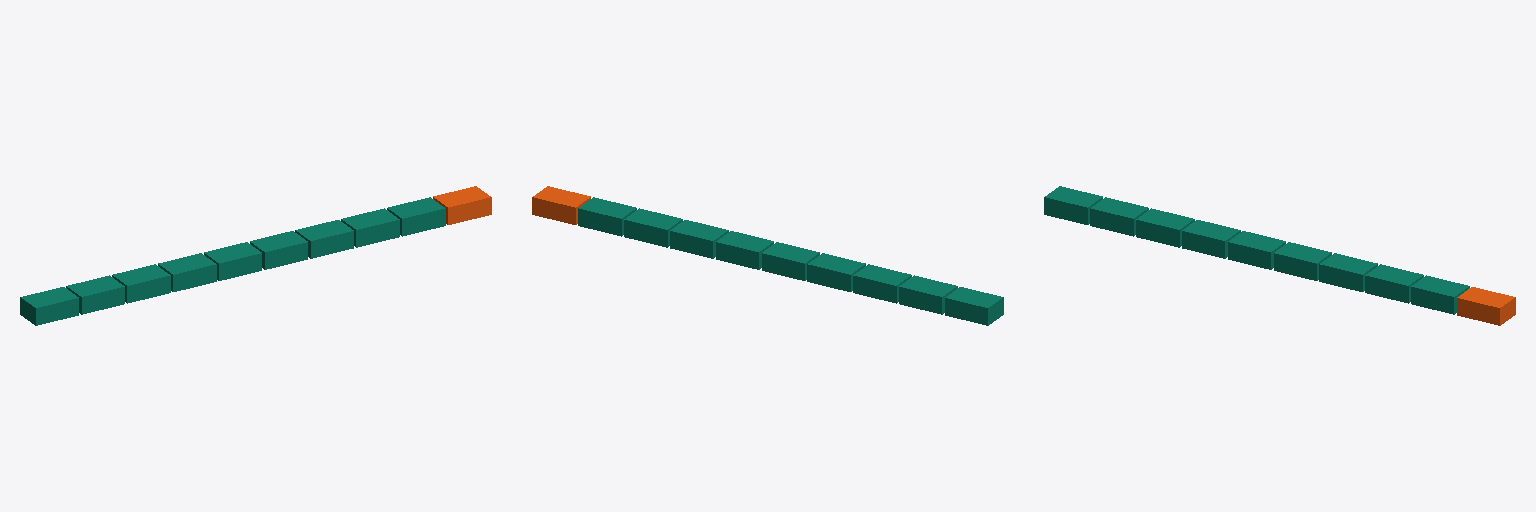
URDF robot description (robot_snake):
<?xml version="1.0"?>
<!-- cadpy:sourcePath=gen_robot_snake.py -->
<!-- cadpy:sourceHash=584fdf737cb0b60bbcebf51f11b106b61b826871e1d13dc4975272cc5c9327d5 -->
<robot name="robot_snake">
  <link name="link_00">
    <inertial>
      <origin xyz="-0.045 0 0" rpy="0 0 0" />
      <mass value="0.16" />
      <inertia ixx="5.66666666667e-05" ixy="0" ixz="0" iyy="0.000124333333333" iyz="0" izz="0.000148333333333" />
    </inertial>
    <visual name="link_00_visual">
      <origin xyz="-0.045 0 0" rpy="0 0 0" />
      <geometry>
        <box size="0.09 0.055 0.035" />
      </geometry>
      <material name="link_00_material">
        <color rgba="0.95 0.42 0.12 1" />
      </material>
    </visual>
    <collision name="link_00_collision">
      <origin xyz="-0.045 0 0" rpy="0 0 0" />
      <geometry>
        <box size="0.09 0.055 0.035" />
      </geometry>
    </collision>
  </link>
  <link name="link_01">
    <inertial>
      <origin xyz="-0.045 0 0" rpy="0 0 0" />
      <mass value="0.16" />
      <inertia ixx="5.66666666667e-05" ixy="0" ixz="0" iyy="0.000124333333333" iyz="0" izz="0.000148333333333" />
    </inertial>
    <visual name="link_01_visual">
      <origin xyz="-0.045 0 0" rpy="0 0 0" />
      <geometry>
        <box size="0.09 0.055 0.035" />
      </geometry>
      <material name="link_01_material">
        <color rgba="0.10 0.55 0.46 1" />
      </material>
    </visual>
    <collision name="link_01_collision">
      <origin xyz="-0.045 0 0" rpy="0 0 0" />
      <geometry>
        <box size="0.09 0.055 0.035" />
      </geometry>
    </collision>
  </link>
  <link name="link_02">
    <inertial>
      <origin xyz="-0.045 0 0" rpy="0 0 0" />
      <mass value="0.16" />
      <inertia ixx="5.66666666667e-05" ixy="0" ixz="0" iyy="0.000124333333333" iyz="0" izz="0.000148333333333" />
    </inertial>
    <visual name="link_02_visual">
      <origin xyz="-0.045 0 0" rpy="0 0 0" />
      <geometry>
        <box size="0.09 0.055 0.035" />
      </geometry>
      <material name="link_02_material">
        <color rgba="0.10 0.55 0.46 1" />
      </material>
    </visual>
    <collision name="link_02_collision">
      <origin xyz="-0.045 0 0" rpy="0 0 0" />
      <geometry>
        <box size="0.09 0.055 0.035" />
      </geometry>
    </collision>
  </link>
  <link name="link_03">
    <inertial>
      <origin xyz="-0.045 0 0" rpy="0 0 0" />
      <mass value="0.16" />
      <inertia ixx="5.66666666667e-05" ixy="0" ixz="0" iyy="0.000124333333333" iyz="0" izz="0.000148333333333" />
    </inertial>
    <visual name="link_03_visual">
      <origin xyz="-0.045 0 0" rpy="0 0 0" />
      <geometry>
        <box size="0.09 0.055 0.035" />
      </geometry>
      <material name="link_03_material">
        <color rgba="0.10 0.55 0.46 1" />
      </material>
    </visual>
    <collision name="link_03_collision">
      <origin xyz="-0.045 0 0" rpy="0 0 0" />
      <geometry>
        <box size="0.09 0.055 0.035" />
      </geometry>
    </collision>
  </link>
  <link name="link_04">
    <inertial>
      <origin xyz="-0.045 0 0" rpy="0 0 0" />
      <mass value="0.16" />
      <inertia ixx="5.66666666667e-05" ixy="0" ixz="0" iyy="0.000124333333333" iyz="0" izz="0.000148333333333" />
    </inertial>
    <visual name="link_04_visual">
      <origin xyz="-0.045 0 0" rpy="0 0 0" />
      <geometry>
        <box size="0.09 0.055 0.035" />
      </geometry>
      <material name="link_04_material">
        <color rgba="0.10 0.55 0.46 1" />
      </material>
    </visual>
    <collision name="link_04_collision">
      <origin xyz="-0.045 0 0" rpy="0 0 0" />
      <geometry>
        <box size="0.09 0.055 0.035" />
      </geometry>
    </collision>
  </link>
  <link name="link_05">
    <inertial>
      <origin xyz="-0.045 0 0" rpy="0 0 0" />
      <mass value="0.16" />
      <inertia ixx="5.66666666667e-05" ixy="0" ixz="0" iyy="0.000124333333333" iyz="0" izz="0.000148333333333" />
    </inertial>
    <visual name="link_05_visual">
      <origin xyz="-0.045 0 0" rpy="0 0 0" />
      <geometry>
        <box size="0.09 0.055 0.035" />
      </geometry>
      <material name="link_05_material">
        <color rgba="0.10 0.55 0.46 1" />
      </material>
    </visual>
    <collision name="link_05_collision">
      <origin xyz="-0.045 0 0" rpy="0 0 0" />
      <geometry>
        <box size="0.09 0.055 0.035" />
      </geometry>
    </collision>
  </link>
  <link name="link_06">
    <inertial>
      <origin xyz="-0.045 0 0" rpy="0 0 0" />
      <mass value="0.16" />
      <inertia ixx="5.66666666667e-05" ixy="0" ixz="0" iyy="0.000124333333333" iyz="0" izz="0.000148333333333" />
    </inertial>
    <visual name="link_06_visual">
      <origin xyz="-0.045 0 0" rpy="0 0 0" />
      <geometry>
        <box size="0.09 0.055 0.035" />
      </geometry>
      <material name="link_06_material">
        <color rgba="0.10 0.55 0.46 1" />
      </material>
    </visual>
    <collision name="link_06_collision">
      <origin xyz="-0.045 0 0" rpy="0 0 0" />
      <geometry>
        <box size="0.09 0.055 0.035" />
      </geometry>
    </collision>
  </link>
  <link name="link_07">
    <inertial>
      <origin xyz="-0.045 0 0" rpy="0 0 0" />
      <mass value="0.16" />
      <inertia ixx="5.66666666667e-05" ixy="0" ixz="0" iyy="0.000124333333333" iyz="0" izz="0.000148333333333" />
    </inertial>
    <visual name="link_07_visual">
      <origin xyz="-0.045 0 0" rpy="0 0 0" />
      <geometry>
        <box size="0.09 0.055 0.035" />
      </geometry>
      <material name="link_07_material">
        <color rgba="0.10 0.55 0.46 1" />
      </material>
    </visual>
    <collision name="link_07_collision">
      <origin xyz="-0.045 0 0" rpy="0 0 0" />
      <geometry>
        <box size="0.09 0.055 0.035" />
      </geometry>
    </collision>
  </link>
  <link name="link_08">
    <inertial>
      <origin xyz="-0.045 0 0" rpy="0 0 0" />
      <mass value="0.16" />
      <inertia ixx="5.66666666667e-05" ixy="0" ixz="0" iyy="0.000124333333333" iyz="0" izz="0.000148333333333" />
    </inertial>
    <visual name="link_08_visual">
      <origin xyz="-0.045 0 0" rpy="0 0 0" />
      <geometry>
        <box size="0.09 0.055 0.035" />
      </geometry>
      <material name="link_08_material">
        <color rgba="0.10 0.55 0.46 1" />
      </material>
    </visual>
    <collision name="link_08_collision">
      <origin xyz="-0.045 0 0" rpy="0 0 0" />
      <geometry>
        <box size="0.09 0.055 0.035" />
      </geometry>
    </collision>
  </link>
  <link name="link_09">
    <inertial>
      <origin xyz="-0.045 0 0" rpy="0 0 0" />
      <mass value="0.16" />
      <inertia ixx="5.66666666667e-05" ixy="0" ixz="0" iyy="0.000124333333333" iyz="0" izz="0.000148333333333" />
    </inertial>
    <visual name="link_09_visual">
      <origin xyz="-0.045 0 0" rpy="0 0 0" />
      <geometry>
        <box size="0.09 0.055 0.035" />
      </geometry>
      <material name="link_09_material">
        <color rgba="0.10 0.55 0.46 1" />
      </material>
    </visual>
    <collision name="link_09_collision">
      <origin xyz="-0.045 0 0" rpy="0 0 0" />
      <geometry>
        <box size="0.09 0.055 0.035" />
      </geometry>
    </collision>
  </link>
  <joint name="joint_01" type="revolute">
    <parent link="link_00" />
    <child link="link_01" />
    <origin xyz="-0.095 0 0" rpy="0 0 0" />
    <axis xyz="0 0 1" />
    <limit lower="-0.95" upper="0.95" effort="3" velocity="4" />
  </joint>
  <joint name="joint_02" type="revolute">
    <parent link="link_01" />
    <child link="link_02" />
    <origin xyz="-0.095 0 0" rpy="0 0 0" />
    <axis xyz="0 0 1" />
    <limit lower="-0.95" upper="0.95" effort="3" velocity="4" />
  </joint>
  <joint name="joint_03" type="revolute">
    <parent link="link_02" />
    <child link="link_03" />
    <origin xyz="-0.095 0 0" rpy="0 0 0" />
    <axis xyz="0 0 1" />
    <limit lower="-0.95" upper="0.95" effort="3" velocity="4" />
  </joint>
  <joint name="joint_04" type="revolute">
    <parent link="link_03" />
    <child link="link_04" />
    <origin xyz="-0.095 0 0" rpy="0 0 0" />
    <axis xyz="0 0 1" />
    <limit lower="-0.95" upper="0.95" effort="3" velocity="4" />
  </joint>
  <joint name="joint_05" type="revolute">
    <parent link="link_04" />
    <child link="link_05" />
    <origin xyz="-0.095 0 0" rpy="0 0 0" />
    <axis xyz="0 0 1" />
    <limit lower="-0.95" upper="0.95" effort="3" velocity="4" />
  </joint>
  <joint name="joint_06" type="revolute">
    <parent link="link_05" />
    <child link="link_06" />
    <origin xyz="-0.095 0 0" rpy="0 0 0" />
    <axis xyz="0 0 1" />
    <limit lower="-0.95" upper="0.95" effort="3" velocity="4" />
  </joint>
  <joint name="joint_07" type="revolute">
    <parent link="link_06" />
    <child link="link_07" />
    <origin xyz="-0.095 0 0" rpy="0 0 0" />
    <axis xyz="0 0 1" />
    <limit lower="-0.95" upper="0.95" effort="3" velocity="4" />
  </joint>
  <joint name="joint_08" type="revolute">
    <parent link="link_07" />
    <child link="link_08" />
    <origin xyz="-0.095 0 0" rpy="0 0 0" />
    <axis xyz="0 0 1" />
    <limit lower="-0.95" upper="0.95" effort="3" velocity="4" />
  </joint>
  <joint name="joint_09" type="revolute">
    <parent link="link_08" />
    <child link="link_09" />
    <origin xyz="-0.095 0 0" rpy="0 0 0" />
    <axis xyz="0 0 1" />
    <limit lower="-0.95" upper="0.95" effort="3" velocity="4" />
  </joint>
</robot>

--- Facts derived from the render (not from the file) ---
3 views of the same robot in one strip: view 1: azimuth 30°, elevation 25°; view 2: azimuth 150°, elevation 25°; view 3: azimuth 330°, elevation 25° (orthographic).
Model robot_snake with 10 links and 9 joints (9 revolute), rooted at link_00, posed all joints at 0.
Links seen in each view (by area): view 1: link_09, link_00, link_01, link_02, link_06, link_08, link_03, link_07, link_04, link_05; view 2: link_09, link_00, link_01, link_02, link_06, link_08, link_03, link_07, link_04, link_05; view 3: link_00, link_01, link_03, link_07, link_08, link_09, link_02, link_06, link_05, link_04.
Boxes of the visible links, x1=… form: link_09: x1=20, y1=287, x2=78, y2=325; link_00: x1=433, y1=186, x2=491, y2=224; link_01: x1=387, y1=197, x2=445, y2=236; link_02: x1=341, y1=208, x2=399, y2=247; link_06: x1=158, y1=253, x2=216, y2=291; link_08: x1=66, y1=275, x2=124, y2=314; link_03: x1=295, y1=220, x2=353, y2=258; link_07: x1=112, y1=264, x2=170, y2=303; link_04: x1=250, y1=231, x2=307, y2=269; link_05: x1=204, y1=242, x2=261, y2=280; link_09: x1=945, y1=287, x2=1003, y2=325; link_00: x1=532, y1=186, x2=590, y2=224; link_01: x1=578, y1=197, x2=636, y2=236; link_02: x1=624, y1=208, x2=682, y2=247; link_06: x1=807, y1=253, x2=865, y2=291; link_08: x1=899, y1=275, x2=957, y2=314; link_03: x1=670, y1=220, x2=728, y2=258; link_07: x1=853, y1=264, x2=911, y2=303; link_04: x1=716, y1=231, x2=773, y2=269; link_05: x1=762, y1=242, x2=819, y2=280; link_00: x1=1457, y1=287, x2=1515, y2=325; link_01: x1=1411, y1=275, x2=1469, y2=314; link_03: x1=1319, y1=253, x2=1377, y2=291; link_07: x1=1136, y1=208, x2=1194, y2=247; link_08: x1=1090, y1=197, x2=1148, y2=236; link_09: x1=1044, y1=186, x2=1102, y2=224; link_02: x1=1365, y1=264, x2=1423, y2=303; link_06: x1=1182, y1=220, x2=1240, y2=258; link_05: x1=1228, y1=231, x2=1285, y2=269; link_04: x1=1274, y1=242, x2=1331, y2=280.
Bounding box of the posed robot: 0.945 × 0.055 × 0.035 m (x, y, z).
Geometry: primitives only (box / cylinder / sphere), no mesh files.
